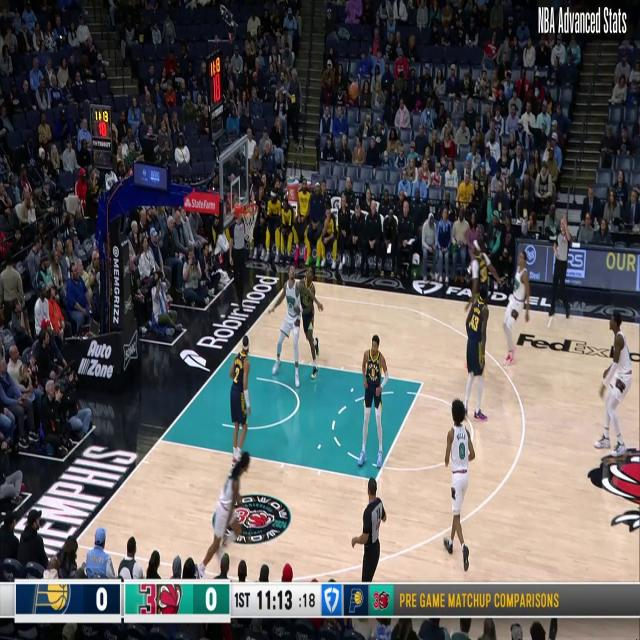ball: (348, 79, 359, 99)
judge: (350, 477, 386, 588), (546, 213, 572, 324), (224, 204, 250, 309)
player: (268, 265, 317, 388), (201, 449, 249, 570), (442, 402, 474, 568), (352, 331, 390, 469), (598, 312, 633, 454), (460, 271, 491, 424), (500, 240, 530, 368), (297, 260, 324, 379), (224, 337, 249, 462)
